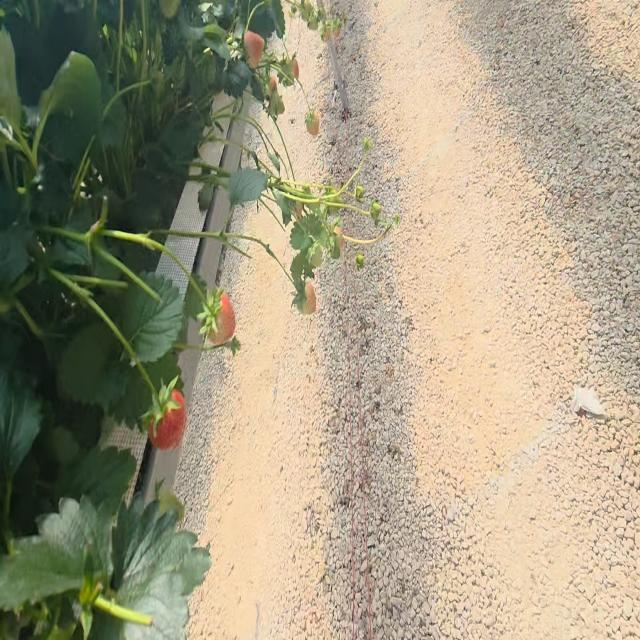Leaves: (93, 495, 211, 639), (0, 498, 110, 609), (57, 321, 133, 410), (122, 273, 182, 363), (39, 52, 101, 135), (63, 446, 136, 514), (0, 362, 42, 478), (109, 368, 152, 431), (0, 226, 28, 293), (0, 30, 20, 120), (143, 350, 181, 391), (227, 167, 268, 204), (99, 100, 126, 147), (198, 183, 217, 211)
Strawberries: (149, 390, 186, 450), (209, 292, 235, 346), (244, 30, 264, 66), (298, 279, 317, 314), (268, 92, 285, 117), (305, 109, 320, 136), (331, 226, 343, 258), (159, 0, 180, 18), (370, 199, 381, 222), (269, 72, 278, 94), (355, 183, 364, 202), (356, 252, 364, 267), (296, 201, 303, 217), (364, 137, 371, 152), (294, 59, 299, 79)
